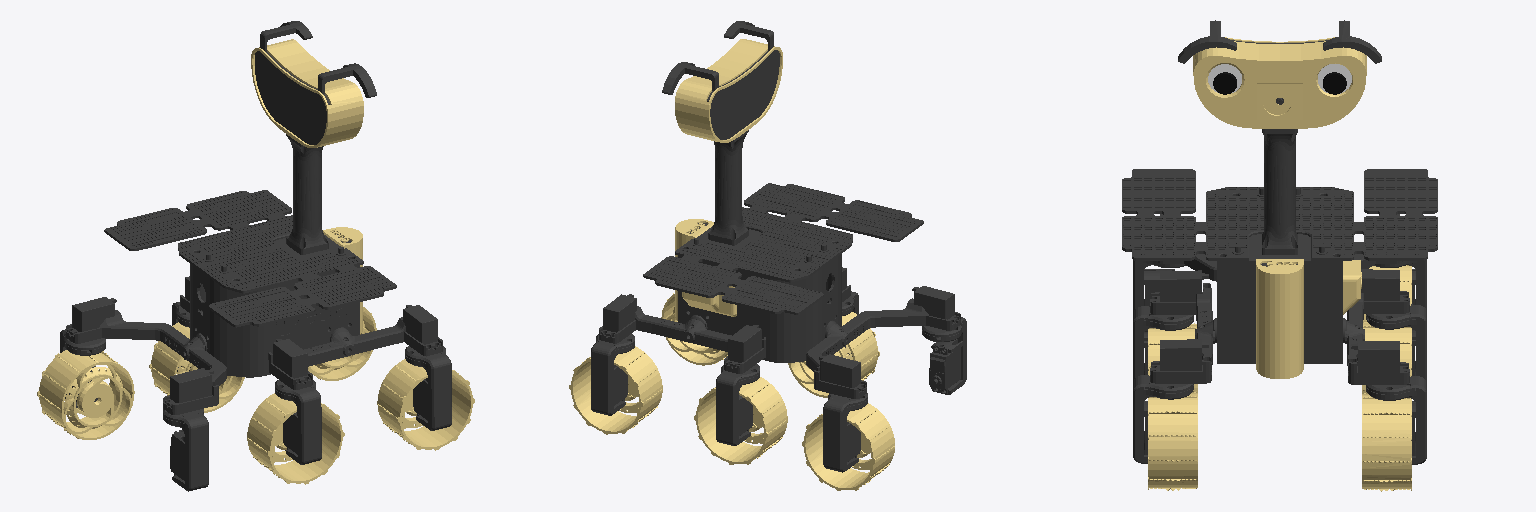
--- Render facts (derived) ---
Views: 3 orthographic renders of the robot side by side, from view 1: azimuth 30°, elevation 25°; view 2: azimuth 150°, elevation 25°; view 3: azimuth 270°, elevation 25°.
Model exomy_model with 23 links and 22 joints (9 revolute, 8 continuous, 5 fixed), rooted at base_link, posed every joint at zero.
Visible links, largest first — view 1: base_link, DRV_LR_link, MRB_link, hat_link, RFB_link, head_link, DRV_RF_link, DRV_RM_link, STR_RR_link, STR_RF_link, STR_RM_link, DRV_LM_link (+3 smaller); view 2: base_link, MRB_link, hat_link, LFB_link, head_link, DRV_LM_link, DRV_LF_link, DRV_LR_link, STR_LR_link, STR_LF_link, STR_LM_link, STR_RR_link (+3 smaller); view 3: base_link, head_link, bling_link, RFB_link, LFB_link, DRV_RF_link, DRV_LF_link, STR_LF_link, STR_RF_link, hat_link, STR_LM_link, STR_RM_link (+6 smaller).
Link boxes in pixels (<box>): base_link: <box>104,134,396,377</box>; DRV_LR_link: <box>37,350,134,439</box>; MRB_link: <box>66,297,226,414</box>; hat_link: <box>255,21,376,144</box>; RFB_link: <box>268,305,442,389</box>; head_link: <box>251,39,363,147</box>; DRV_RF_link: <box>377,359,474,450</box>; DRV_RM_link: <box>247,393,344,484</box>; STR_RR_link: <box>163,408,208,491</box>; STR_RF_link: <box>405,346,451,430</box>; STR_RM_link: <box>275,380,321,464</box>; DRV_LM_link: <box>149,322,244,412</box>; base_link: <box>643,130,923,362</box>; MRB_link: <box>806,286,960,398</box>; hat_link: <box>662,21,779,139</box>; LFB_link: <box>599,294,765,373</box>; head_link: <box>675,39,782,142</box>; DRV_LM_link: <box>694,377,787,464</box>; DRV_LF_link: <box>569,346,662,434</box>; DRV_LR_link: <box>802,403,894,490</box>; STR_LR_link: <box>823,393,867,472</box>; STR_LF_link: <box>591,334,634,415</box>; STR_LM_link: <box>716,364,759,445</box>; STR_RR_link: <box>922,317,966,394</box>; base_link: <box>1122,129,1437,363</box>; head_link: <box>1193,37,1366,128</box>; bling_link: <box>1256,259,1361,378</box>; RFB_link: <box>1150,270,1214,383</box>; LFB_link: <box>1345,269,1409,384</box>; DRV_RF_link: <box>1148,392,1197,490</box>; DRV_LF_link: <box>1362,393,1411,491</box>; STR_LF_link: <box>1366,376,1426,464</box>; STR_RF_link: <box>1133,375,1193,463</box>; hat_link: <box>1178,20,1381,63</box>; STR_LM_link: <box>1366,304,1426,380</box>; STR_RM_link: <box>1133,306,1193,380</box>.
Bounding box of the posed robot: 0.394 × 0.3 × 0.4422 m (x, y, z).
Meshes: 23 distinct files referenced, 22 mesh visuals loaded (22 binary STL); not drawn: 1 (reference not matched to a file when rendering).

The robot description file, URDF, robot "exomy_model":
<?xml version="1.0" encoding="utf-8"?>
<!-- This URDF was automatically created by SolidWorks to URDF Exporter! Originally created by Stephen Brawner ([email redacted]) 
     Commit Version: 1.5.1-0-g916b5db  Build Version: 1.5.7152.31018
     For more information, please see http://wiki.ros.org/sw_urdf_exporter -->
<robot
  name="exomy_model">
  <link
    name="base_link">
    <inertial>
      <origin
        xyz="0.0034421728666082 -0.000593582314044209 0.0800225110677588"
        rpy="0 0 0" />
      <mass
        value="0.461792601094851" />
      <inertia
        ixx="0.00103940886102509"
        ixy="5.8492004688105E-06"
        ixz="-4.21789087708625E-06"
        iyy="0.00145552483450489"
        iyz="5.85702311398782E-06"
        izz="0.00181351390148521" />
    </inertial>
    <visual>
      <origin
        xyz="0 0 0"
        rpy="0 0 0" />
      <geometry>
        <mesh
          filename="package://exomy_model/meshes/base_link.STL" />
      </geometry>
      <material
        name="color">
        <color
          rgba="0.298039215686275 0.298039215686275 0.298039215686275 1" />
      </material>
    </visual>
    <collision>
      <origin
        xyz="0 0 0"
        rpy="0 0 0" />
      <geometry>
        <mesh
          filename="package://exomy_model/meshes/base_link.STL" />
      </geometry>
    </collision>
  </link>
  <link
    name="MRB_link">
    <inertial>
      <origin
        xyz="-4.75494816076468E-06 0.0051724456441953 -0.053203691874464"
        rpy="0 0 0" />
      <mass
        value="0.108378302988404" />
      <inertia
        ixx="4.87361081203044E-05"
        ixy="1.48702296200904E-09"
        ixz="1.51142077198518E-08"
        iyy="0.000292228221201162"
        iyz="-2.65262441630944E-07"
        izz="0.000257396094560756" />
    </inertial>
    <visual>
      <origin
        xyz="0 0 0"
        rpy="0 0 0" />
      <geometry>
        <mesh
          filename="package://exomy_model/meshes/MRB_link.STL" />
      </geometry>
      <material
        name="color">
        <color
          rgba="0.298039215686275 0.298039215686275 0.298039215686275 1" />
      </material>
    </visual>
    <collision>
      <origin
        xyz="0 0 0"
        rpy="0 0 0" />
      <geometry>
        <mesh
          filename="package://exomy_model/meshes/MRB_link.STL" />
      </geometry>
    </collision>
  </link>
  <joint
    name="MRB_joint"
    type="revolute">
    <origin
      xyz="-0.082 0 0.017"
      rpy="1.5708 0 1.5708" />
    <parent
      link="base_link" />
    <child
      link="MRB_link" />
    <axis
      xyz="0 0 1" />
    <limit
      lower="-0.47"
      upper="0.47"
      effort="10.0"
      velocity="1.0" />
  </joint>
  <link
    name="STR_LR_link">
    <inertial>
      <origin
        xyz="-0.0124570291004618 0.000225486285520493 -0.0337605009553561"
        rpy="0 0 -1.5708" />
      <mass
        value="0.0711741624806848" />
      <inertia
        ixx="3.36879478479992E-05"
        ixy="-8.98028473571259E-09"
        ixz="-4.73850731914457E-06"
        iyy="4.10598360484869E-05"
        iyz="-1.40355471129967E-07"
        izz="1.59152321238695E-05" />
    </inertial>
    <visual>
      <origin
        xyz="0 0 0"
        rpy="0 0 -1.5708" />
      <geometry>
        <mesh
          filename="package://exomy_model/meshes/STR_LR_link.STL" />
      </geometry>
      <material
        name="color">
        <color
          rgba="0.298039215686275 0.298039215686275 0.298039215686275 1" />
      </material>
    </visual>
    <collision>
      <origin
        xyz="0 0 0"
        rpy="0 0 -1.5708" />
      <geometry>
        <mesh
          filename="package://exomy_model/meshes/STR_LR_link.STL" />
      </geometry>
    </collision>
  </link>
  <joint
    name="STR_LR_joint"
    type="revolute">
    <origin
      xyz="0.10378 -0.015418 -0.080775"
      rpy="0 -1.5708 -1.5708" />
    <parent
      link="MRB_link" />
    <child
      link="STR_LR_link" />
    <axis
      xyz="0 0 1" />
    <limit
      lower="-1.57"
      upper="1.57"
      effort="10.0"
      velocity="1.0" />
  </joint>
  <link
    name="DRV_LR_link">
    <inertial>
      <origin
        xyz="-4.38837843702578E-08 0.000210617627838187 -0.00746718154845782"
        rpy="0 0 0" />
      <mass
        value="0.0569725827075565" />
      <inertia
        ixx="5.23057476713962E-05"
        ixy="1.42808035334225E-11"
        ixz="-1.21312260607476E-11"
        iyy="5.21106389985384E-05"
        iyz="6.30117671071211E-08"
        izz="8.04986816304342E-05" />
    </inertial>
    <visual>
      <origin
        xyz="0 0 0"
        rpy="0 0 0" />
      <geometry>
        <mesh
          filename="package://exomy_model/meshes/DRV_LR_link.STL" />
      </geometry>
      <material
        name="color">
        <color
          rgba="0.968627450980392 0.87843137254902 0.6 1" />
      </material>
    </visual>
    <collision>
      <origin
        xyz="0 0 0"
        rpy="0 0 0" />
      <geometry>
        <mesh
          filename="package://exomy_model/meshes/DRV_LR_link.STL" />
      </geometry>
    </collision>
  </link>
  <joint
    name="DRV_LR_joint"
    type="continuous">
    <origin
      xyz="0 -0.0023862 -0.057244"
      rpy="-1.5708 0 0" />
    <parent
      link="STR_LR_link" />
    <child
      link="DRV_LR_link" />
    <axis
      xyz="0 0 1" />
  </joint>
  <link
    name="STR_RR_link">
    <inertial>
      <origin
        xyz="-0.0124555119207003 -0.000225533347029169 -0.0337608863888986"
        rpy="0 0 1.5708" />
      <mass
        value="0.071173105016733" />
      <inertia
        ixx="3.36872651590183E-05"
        ixy="8.0792108133717E-09"
        ixz="-4.74135535852484E-06"
        iyy="4.10633342810781E-05"
        iyz="1.40511475060441E-07"
        izz="1.59192004795905E-05" />
    </inertial>
    <visual>
      <origin
        xyz="0 0 0"
        rpy="0 0 1.5708" />
      <geometry>
        <mesh
          filename="package://exomy_model/meshes/STR_RR_link.STL" />
      </geometry>
      <material
        name="color">
        <color
          rgba="0.298039215686275 0.298039215686275 0.298039215686275 1" />
      </material>
    </visual>
    <collision>
      <origin
        xyz="0 0 0"
        rpy="0 0 1.5708" />
      <geometry>
        <mesh
          filename="package://exomy_model/meshes/STR_RR_link.STL" />
      </geometry>
    </collision>
  </link>
  <joint
    name="STR_RR_joint"
    type="revolute">
    <origin
      xyz="-0.103779999964964 -0.0154182000000004 -0.0807754997113281"
      rpy="0 -1.5708 -1.5708" />
    <parent
      link="MRB_link" />
    <child
      link="STR_RR_link" />
    <axis
      xyz="0 0 1" />
    <limit
      lower="-1.57"
      upper="1.57"
      effort="10.0"
      velocity="1.0" />
  </joint>
  <link
    name="DRV_RR_link">
    <inertial>
      <origin
        xyz="-4.38837843980133E-08 0.000210617627838181 0.00746718154845791"
        rpy="0 0 0" />
      <mass
        value="0.0569725827075564" />
      <inertia
        ixx="5.23057476713962E-05"
        ixy="1.4280803567856E-11"
        ixz="-1.21312261132926E-11"
        iyy="5.21106389985384E-05"
        iyz="6.30117671071784E-08"
        izz="8.04986816304342E-05" />
    </inertial>
    <visual>
      <origin
        xyz="0 0 0"
        rpy="0 0 0" />
      <geometry>
        <mesh
          filename="package://exomy_model/meshes/DRV_RR_link.STL" />
      </geometry>
      <material
        name="color">
        <color
          rgba="0.968627450980392 0.87843137254902 0.6 1" />
      </material>
    </visual>
    <collision>
      <origin
        xyz="0 0 0"
        rpy="0 0 0" />
      <geometry>
        <mesh
          filename="package://exomy_model/meshes/DRV_RR_link.STL" />
      </geometry>
    </collision>
  </link>
  <joint
    name="DRV_RR_joint"
    type="continuous">
    <origin
      xyz="0 0.00238620000000078 -0.05724350028868"
      rpy="-1.57079634175582 0 0" />
    <parent
      link="STR_RR_link" />
    <child
      link="DRV_RR_link" />
    <axis
      xyz="0 0 1" />
  </joint>
  <link
    name="RFB_link">
    <inertial>
      <origin
        xyz="-8.38457132264075E-05 -0.00628204153226714 -0.0263258310482545"
        rpy="0 0 0" />
      <mass
        value="0.0924731809037187" />
      <inertia
        ixx="2.29568915420578E-05"
        ixy="1.58188457098278E-06"
        ixz="8.63143998755461E-09"
        iyy="0.000122728602083747"
        iyz="4.1818097875421E-07"
        izz="0.000113483415744406" />
    </inertial>
    <visual>
      <origin
        xyz="0 0 0"
        rpy="0 0 0" />
      <geometry>
        <mesh
          filename="package://exomy_model/meshes/RFB_link.STL" />
      </geometry>
      <material
        name="color">
        <color
          rgba="0.298039215686275 0.298039215686275 0.298039215686275 1" />
      </material>
    </visual>
    <collision>
      <origin
        xyz="0 0 0"
        rpy="0 0 0" />
      <geometry>
        <mesh
          filename="package://exomy_model/meshes/RFB_link.STL" />
      </geometry>
    </collision>
  </link>
  <joint
    name="RFB_joint"
    type="revolute">
    <origin
      xyz="0.055 -0.0619999999999967 0.017"
      rpy="-1.5707963267949 0 0" />
    <parent
      link="base_link" />
    <child
      link="RFB_link" />
    <axis
      xyz="0 0 1" />
    <limit
      lower="-0.47"
      upper="0.47"
      effort="10.0"
      velocity="1.0" />f
  </joint>
  <link
    name="STR_RF_link">
    <inertial>
      <origin
        xyz="0.000225535399357379 -0.0124555107840924 -0.0337608839210725"
        rpy="0 0 0" />
      <mass
        value="0.0711731123513564" />
      <inertia
        ixx="4.10633381534302E-05"
        ixy="-8.08388203962856E-09"
        ixz="-1.40514255173095E-07"
        iyy="3.36872678189233E-05"
        iyz="-4.74135711620157E-06"
        izz="1.5919203009283E-05" />
    </inertial>
    <visual>
      <origin
        xyz="0 0 0"
        rpy="0 0 0" />
      <geometry>
        <mesh
          filename="package://exomy_model/meshes/STR_RF_link.STL" />
      </geometry>
      <material
        name="color">
        <color
          rgba="0.298039215686275 0.298039215686275 0.298039215686275 1" />
      </material>
    </visual>
    <collision>
      <origin
        xyz="0 0 0"
        rpy="0 0 0" />
      <geometry>
        <mesh
          filename="package://exomy_model/meshes/STR_RF_link.STL" />
      </geometry>
    </collision>
  </link>
  <joint
    name="STR_RF_joint"
    type="revolute">
    <origin
      xyz="0.0802349319288146 0.0141448430183208 -0.0417754997113241"
      rpy="1.5707963267949 0 -0.015893290716378" />
    <parent
      link="RFB_link" />
    <child
      link="STR_RF_link" />
    <axis
      xyz="0 0 1" />
    <limit
      lower="-1.57"
      upper="1.57"
      effort="10.0"
      velocity="1.0" />
  </joint>
  <link
    name="DRV_RF_link">
    <inertial>
      <origin
        xyz="3.39114450861877E-06 0.000210590330311941 0.00746718154845911"
        rpy="0 0 0" />
      <mass
        value="0.0569725827075563" />
      <inertia
        ixx="5.23056979378795E-05"
        ixy="-3.1146702870726E-09"
        ixz="-1.01355186737367E-09"
        iyy="5.21106887320552E-05"
        iyz="-6.30036161957909E-08"
        izz="8.04986816304343E-05" />
    </inertial>
    <visual>
      <origin
        xyz="0 0 0"
        rpy="0 0 0" />
      <geometry>
        <mesh
          filename="package://exomy_model/meshes/DRV_RF_link.STL" />
      </geometry>
      <material
        name="color">
        <color
          rgba="0.968627450980392 0.87843137254902 0.6 1" />
      </material>
    </visual>
    <collision>
      <origin
        xyz="0 0 0"
        rpy="0 0 0" />
      <geometry>
        <mesh
          filename="package://exomy_model/meshes/DRV_RF_link.STL" />
      </geometry>
    </collision>
  </link>
  <joint
    name="DRV_RF_joint"
    type="continuous">
    <origin
      xyz="0 0.00238620000000062 -0.05724350028868"
      rpy="-1.5707963267949 0.015893290716378 0" />
    <parent
      link="STR_RF_link" />
    <child
      link="DRV_RF_link" />
    <axis
      xyz="0 0 1" />
  </joint>
  <link
    name="STR_RM_link">
    <inertial>
      <origin
        xyz="-0.000225484526532056 -0.0124570290148926 -0.0337605008492651"
        rpy="0 0 0" />
      <mass
        value="0.0711741620458433" />
      <inertia
        ixx="4.1059835210984E-05"
        ixy="8.97622797173443E-09"
        ixz="1.4035214941618E-07"
        iyy="3.36879468051002E-05"
        iyz="-4.73850702378181E-06"
        izz="1.59152316780868E-05" />
    </inertial>
    <visual>
      <origin
        xyz="0 0 0"
        rpy="0 0 0" />
      <geometry>
        <mesh
          filename="package://exomy_model/meshes/STR_RM_link.STL" />
      </geometry>
      <material
        name="color">
        <color
          rgba="0.298039215686275 0.298039215686275 0.298039215686275 1" />
      </material>
    </visual>
    <collision>
      <origin
        xyz="0 0 0"
        rpy="0 0 0" />
      <geometry>
        <mesh
          filename="package://exomy_model/meshes/STR_RM_link.STL" />
      </geometry>
    </collision>
  </link>
  <joint
    name="STR_RM_joint"
    type="revolute">
    <origin
      xyz="-0.0797448607263364 0.0166876624779333 -0.0417754996999998"
      rpy="1.5707963267949 0 -0.0158932907163782" />
    <parent
      link="RFB_link" />
    <child
      link="STR_RM_link" />
    <axis
      xyz="0 0 1" />
    <limit
      lower="-1.57"
      upper="1.57"
      effort="10.0"
      velocity="1.0" />
  </joint>
  <link
    name="DRV_RM_link">
    <inertial>
      <origin
        xyz="3.39103454103859E-06 0.000210590220343906 0.00746718155160908"
        rpy="0 0 0" />
      <mass
        value="0.0569725827075566" />
      <inertia
        ixx="5.23056979379094E-05"
        ixy="-3.1146693443612E-09"
        ixz="-1.01396710611305E-09"
        iyy="5.21106887339111E-05"
        iyz="-6.30040343072411E-08"
        izz="8.04986816285489E-05" />
    </inertial>
    <visual>
      <origin
        xyz="0 0 0"
        rpy="0 0 0" />
      <geometry>
        <mesh
          filename="package://exomy_model/meshes/DRV_RM_link.STL" />
      </geometry>
      <material
        name="color">
        <color
          rgba="0.968627450980392 0.87843137254902 0.6 1" />
      </material>
    </visual>
    <collision>
      <origin
        xyz="0 0 0"
        rpy="0 0 0" />
      <geometry>
        <mesh
          filename="package://exomy_model/meshes/DRV_RM_link.STL" />
      </geometry>
    </collision>
  </link>
  <joint
    name="DRV_RM_joint"
    type="continuous">
    <origin
      xyz="0 0.00238620000000078 -0.05724350028868"
      rpy="-1.57079634175582 0.0158932907163779 0" />
    <parent
      link="STR_RM_link" />
    <child
      link="DRV_RM_link" />
    <axis
      xyz="0 0 1" />
  </joint>
  <link
    name="LFB_link">
    <inertial>
      <origin
        xyz="-1.60029202162099E-05 -0.00628258071143433 0.0263258310443698"
        rpy="0 0 0" />
      <mass
        value="0.0924731806442644" />
      <inertia
        ixx="2.29318170765755E-05"
        ixy="4.3481647864576E-09"
        ixz="1.98434748239914E-09"
        iyy="0.000122753677991828"
        iyz="-4.18265325949263E-07"
        izz="0.000113483417193971" />
    </inertial>
    <visual>
      <origin
        xyz="0 0 0"
        rpy="0 0 0" />
      <geometry>
        <mesh
          filename="package://exomy_model/meshes/LFB_link.STL" />
      </geometry>
      <material
        name="color">
        <color
          rgba="0.298039215686275 0.298039215686275 0.298039215686275 1" />
      </material>
    </visual>
    <collision>
      <origin
        xyz="0 0 0"
        rpy="0 0 0" />
      <geometry>
        <mesh
          filename="package://exomy_model/meshes/LFB_link.STL" />
      </geometry>
    </collision>
  </link>
  <joint
    name="LFB_joint"
    type="revolute">
    <origin
      xyz="0.055 0.0619999999999967 0.017"
      rpy="-1.5707963267949 0 0" />
    <parent
      link="base_link" />
    <child
      link="LFB_link" />
    <axis
      xyz="0 0 1" />
    <limit
      lower="-0.47"
      upper="0.47"
      effort="10.0"
      velocity="1.0" />
  </joint>
  <link
    name="STR_LF_link">
    <inertial>
      <origin
        xyz="0.000225486285520132 0.0124570291004614 -0.0337605009553564"
        rpy="0 0 0" />
      <mass
        value="0.0711741624806841" />
      <inertia
        ixx="4.10598360484866E-05"
        ixy="8.98028473592791E-09"
        ixz="-1.40355471130126E-07"
        iyy="3.3687947847999E-05"
        iyz="4.73850731914466E-06"
        izz="1.59152321238694E-05" />
    </inertial>
    <visual>
      <origin
        xyz="0 0 0"
        rpy="0 0 0" />
      <geometry>
        <mesh
          filename="package://exomy_model/meshes/STR_LF_link.STL" />
      </geometry>
      <material
        name="color">
        <color
          rgba="0.298039215686275 0.298039215686275 0.298039215686275 1" />
      </material>
    </visual>
    <collision>
      <origin
        xyz="0 0 0"
        rpy="0 0 0" />
      <geometry>
        <mesh
          filename="package://exomy_model/meshes/STR_LF_link.STL" />
      </geometry>
    </collision>
  </link>
  <joint
    name="STR_LF_joint"
    type="revolute">
    <origin
      xyz="0.0800000000000001 0.0154182000000003 0.041775499700002"
      rpy="1.5707963267949 0 0" />
    <parent
      link="LFB_link" />
    <child
      link="STR_LF_link" />
    <axis
      xyz="0 0 1" />
    <limit
      lower="-1.57"
      upper="1.57"
      effort="10.0"
      velocity="1.0" />
  </joint>
  <link
    name="DRV_LF_link">
    <inertial>
      <origin
        xyz="-4.38837841065798E-08 0.00021061762783816 -0.00746718154845798"
        rpy="0 0 0" />
      <mass
        value="0.0569725827075566" />
      <inertia
        ixx="5.23057476713962E-05"
        ixy="1.42808035655077E-11"
        ixz="-1.21312268807397E-11"
        iyy="5.21106389985386E-05"
        iyz="6.30117671071828E-08"
        izz="8.04986816304343E-05" />
    </inertial>
    <visual>
      <origin
        xyz="0 0 0"
        rpy="0 0 0" />
      <geometry>
        <mesh
          filename="package://exomy_model/meshes/DRV_LF_link.STL" />
      </geometry>
      <material
        name="color">
        <color
          rgba="0.968627450980392 0.87843137254902 0.6 1" />
      </material>
    </visual>
    <collision>
      <origin
        xyz="0 0 0"
        rpy="0 0 0" />
      <geometry>
        <mesh
          filename="package://exomy_model/meshes/DRV_LF_link.STL" />
      </geometry>
    </collision>
  </link>
  <joint
    name="DRV_LF_joint"
    type="continuous">
    <origin
      xyz="0 -0.00238620000000062 -0.05724350028868"
      rpy="-1.5707963267949 0 0" />
    <parent
      link="STR_LF_link" />
    <child
      link="DRV_LF_link" />
    <axis
      xyz="0 0 1" />
  </joint>
  <link
    name="STR_LM_link">
    <inertial>
      <origin
        xyz="-0.000225533347029273 0.0124555119206989 -0.0337608863888989"
        rpy="0 0 0" />
      <mass
        value="0.0711731050167323" />
      <inertia
        ixx="4.10633342810777E-05"
        ixy="-8.07921081316806E-09"
        ixz="1.40511475060324E-07"
        iyy="3.3687265159018E-05"
        iyz="4.74135535852496E-06"
        izz="1.59192004795905E-05" />
    </inertial>
    <visual>
      <origin
        xyz="0 0 0"
        rpy="0 0 0" />
      <geometry>
        <mesh
          filename="package://exomy_model/meshes/STR_LM_link.STL" />
      </geometry>
      <material
        name="color">
        <color
          rgba="0.298039215686275 0.298039215686275 0.298039215686275 1" />
      </material>
    </visual>
    <collision>
      <origin
        xyz="0 0 0"
        rpy="0 0 0" />
      <geometry>
        <mesh
          filename="package://exomy_model/meshes/STR_LM_link.STL" />
      </geometry>
    </collision>
  </link>
  <joint
    name="STR_LM_joint"
    type="revolute">
    <origin
      xyz="-0.0799999999649664 0.0154182000000003 0.0417754997113218"
      rpy="1.5707963267949 0 0" />
    <parent
      link="LFB_link" />
    <child
      link="STR_LM_link" />
    <axis
      xyz="0 0 1" />
    <limit
      lower="-1.57"
      upper="1.57"
      effort="10.0"
      velocity="1.0" />
  </joint>
  <link
    name="DRV_LM_link">
    <inertial>
      <origin
        xyz="-4.37738164535406E-08 0.000210617737805917 -0.00746718154535671"
        rpy="0 0 0" />
      <mass
        value="0.0569725827075566" />
      <inertia
        ixx="5.23057476713966E-05"
        ixy="1.42798757667414E-11"
        ixz="-1.25464185675061E-11"
        iyy="5.21106389966827E-05"
        iyz="6.30113490421523E-08"
        izz="8.04986816322899E-05" />
    </inertial>
    <visual>
      <origin
        xyz="0 0 0"
        rpy="0 0 0" />
      <geometry>
        <mesh
          filename="package://exomy_model/meshes/DRV_LM_link.STL" />
      </geometry>
      <material
        name="color">
        <color
          rgba="0.968627450980392 0.87843137254902 0.6 1" />
      </material>
    </visual>
    <collision>
      <origin
        xyz="0 0 0"
        rpy="0 0 0" />
      <geometry>
        <mesh
          filename="package://exomy_model/meshes/DRV_LM_link.STL" />
      </geometry>
    </collision>
  </link>
  <joint
    name="DRV_LM_joint"
    type="continuous">
    <origin
      xyz="0 -0.00238620000000191 -0.05724350028868"
      rpy="-1.5707963415217 0 0" />
    <parent
      link="STR_LM_link" />
    <child
      link="DRV_LM_link" />
    <axis
      xyz="0 0 1" />
  </joint>
  <link
    name="head_link">
    <inertial>
      <origin
        xyz="4.0509917286166E-05 0.0108850586865648 0.0292442059611973"
        rpy="0 0 0" />
      <mass
        value="0.078891512690109" />
      <inertia
        ixx="6.70251107353366E-05"
        ixy="2.39510957059524E-09"
        ixz="-1.02874991606426E-08"
        iyy="0.000206696832834382"
        iyz="-5.1503022725599E-07"
        izz="0.000246607733219875" />
    </inertial>
    <visual>
      <origin
        xyz="0 0 0"
        rpy="0 0 0" />
      <geometry>
        <mesh
          filename="package://exomy_model/meshes/head_link.STL" />
      </geometry>
      <material
        name="color">
        <color
          rgba="0.968627450980392 0.87843137254902 0.6 1" />
      </material>
    </visual>
    <collision>
      <origin
        xyz="0 0 0"
        rpy="0 0 0" />
      <geometry>
        <mesh
          filename="package://exomy_model/meshes/head_link.STL" />
      </geometry>
    </collision>
  </link>
  <joint
    name="head_joint"
    type="fixed">
    <origin
      xyz="0.0279999999999999 0 0.270280720578923"
      rpy="1.5707963267949 0 1.5707963267949" />
    <parent
      link="base_link" />
    <child
      link="head_link" />
    <axis
      xyz="0 0 0" />
  </joint>
  <link
    name="eyewhite_link">
    <inertial>
      <origin
        xyz="0.0519999879024582 -3.12462373082689E-05 0.000860409568077425"
        rpy="0 0 0" />
      <mass
        value="0.00447909534854348" />
      <inertia
        ixx="4.71996017145732E-07"
        ixy="3.02527120032438E-13"
        ixz="-2.59196121286635E-14"
        iyy="4.71644858227357E-07"
        iyz="1.94300295539208E-11"
        izz="9.38560485421757E-07" />
    </inertial>
    <visual>
      <origin
        xyz="0 0 0"
        rpy="0 0 0" />
      <geometry>
        <mesh
          filename="package://exomy_model/meshes/eyewhite_link.STL" />
      </geometry>
      <material
        name="color">
        <color
          rgba="1 1 1 1" />
      </material>
    </visual>
    <collision>
      <origin
        xyz="0 0 0"
        rpy="0 0 0" />
      <geometry>
        <mesh
          filename="package://exomy_model/meshes/eyewhite_link.STL" />
      </geometry>
    </collision>
  </link>
  <joint
    name="eyewhite_joint"
    type="fixed">
    <origin
      xyz="-0.0520000000000005 0.0230000000000001 0.039"
      rpy="0 0 0" />
    <parent
      link="head_link" />
    <child
      link="eyewhite_link" />
    <axis
      xyz="0 0 0" />
  </joint>
  <link
    name="pupil_left_link">
    <inertial>
      <origin
        xyz="0 -0.0045 0.000632252497896557"
        rpy="0 0 0" />
      <mass
        value="0.000901852963073431" />
      <inertia
        ixx="2.89326801666712E-08"
        ixy="-2.68833699079734E-24"
        ixz="4.65289094561078E-25"
        iyy="2.7290995437859E-08"
        iyz="1.23645011521457E-09"
        izz="5.34701372980572E-08" />
    </inertial>
    <visual>
      <origin
        xyz="0 -0.0045 0"
        rpy="0 0 0" />
      <geometry>
        <mesh
          filename="package://exomy_model/meshes/pupil_left_link.STL" />
      </geometry>
      <material
        name="color">
        <color
          rgba="0.101960784313725 0.101960784313725 0.101960784313725 1" />
      </material>
    </visual>
    <collision>
      <origin
        xyz="0 -0.0045 0"
        rpy="0 0 0" />
      <geometry>
        <mesh
          filename="package://exomy_model/meshes/pupil_left_link.STL" />
      </geometry>
    </collision>
  </link>
  <joint
    name="pupil_left_joint"
    type="continuous">
    <origin
      xyz="0.104 0 0.002"
      rpy="0 0 0" />
    <parent
      link="eyewhite_link" />
    <child
      link="pupil_left_link" />
    <axis
      xyz="0 0 1" />
  </joint>
  <link
    name="pupil_right_link">
    <inertial>
      <origin
        xyz="0 -0.0045 0.000632252497896571"
        rpy="0 0 0" />
      <mass
        value="0.000901852963073431" />
      <inertia
        ixx="2.89326801666712E-08"
        ixy="-6.20385459414771E-25"
        ixz="-2.32644547280539E-24"
        iyy="2.7290995437859E-08"
        iyz="1.23645011521456E-09"
        izz="5.34701372980573E-08" />
    </inertial>
    <visual>
      <origin
        xyz="0 -0.0045 0"
        rpy="0 0 0" />
      <geometry>
        <mesh
          filename="package://exomy_model/meshes/pupil_right_link.STL" />
      </geometry>
      <material
        name="color">
        <color
          rgba="0.101960784313725 0.101960784313725 0.101960784313725 1" />
      </material>
    </visual>
    <collision>
      <origin
        xyz="0 -0.0045 0"
        rpy="0 0 0" />
      <geometry>
        <mesh
          filename="package://exomy_model/meshes/pupil_right_link.STL" />
      </geometry>
    </collision>
  </link>
  <joint
    name="pupil_right_joint"
    type="continuous">
    <origin
      xyz="0 0 0.002"
      rpy="0 0 0" />
    <parent
      link="eyewhite_link" />
    <child
      link="pupil_right_link" />
    <axis
      xyz="0 0 1" />
    <mimic
      joint="pupil_left_joint"/>
  </joint>
  <link
    name="cam_link">
    <inertial>
      <origin
        xyz="-0.00249086473821708 0.000136649009533494 0.000569820673845034"
        rpy="0 0 0" />
      <mass
        value="0.00115745344893818" />
      <inertia
        ixx="3.97290092554314E-08"
        ixy="1.65336506579141E-13"
        ixz="-3.60412180475581E-11"
        iyy="2.88827920072803E-08"
        iyz="-2.52492241388442E-13"
        izz="6.76913771029684E-08" />
    </inertial>
    <visual>
      <origin
        xyz="0 0 0"
        rpy="0 0 0" />
      <geometry>
        <mesh
          filename="package://exomy_model/meshes/cam_link.STL" />
      </geometry>
      <material
        name="color">
        <color
          rgba="0.298039215686275 0.298039215686275 0.298039215686275 1" />
      </material>
    </visual>
    <collision>
      <origin
        xyz="0 0 0"
        rpy="0 0 0" />
      <geometry>
        <mesh
          filename="package://exomy_model/meshes/cam_link.STL" />
      </geometry>
    </collision>
  </link>
  <joint
    name="cam_joint"
    type="fixed">
    <origin
      xyz="9.42151964158384E-05 0.00215468910946459 0.035"
      rpy="0 0 1.5707963267949" />
    <parent
      link="head_link" />
    <child
      link="cam_link" />
    <axis
      xyz="0 0 0" />
  </joint>
  <link
    name="hat_link">
    <inertial>
      <origin
        xyz="3.19558159002607E-08 0.0294025205083059 0.0152014899719377"
        rpy="0 0 0" />
      <mass
        value="0.0446228233973554" />
      <inertia
        ixx="4.85170602784381E-05"
        ixy="-7.36561851682008E-11"
        ixz="-4.45696698592091E-11"
        iyy="0.000137144944737089"
        iyz="-1.51319761954045E-05"
        izz="0.000157930625148711" />
    </inertial>
    <visual>
      <origin
        xyz="0 0 0"
        rpy="0 0 0" />
      <geometry>
        <mesh
          filename="package://exomy_model/meshes/hat_link.STL" />
      </geometry>
      <material
        name="color">
        <color
          rgba="0.298039215686275 0.298039215686275 0.298039215686275 1" />
      </material>
    </visual>
    <collision>
      <origin
        xyz="0 0 0"
        rpy="0 0 0" />
      <geometry>
        <mesh
          filename="package://exomy_model/meshes/hat_link.STL" />
      </geometry>
    </collision>
  </link>
  <joint
    name="hat_joint"
    type="fixed">
    <origin
      xyz="0 -0.001 -0.001"
      rpy="0 0 0" />
    <parent
      link="head_link" />
    <child
      link="hat_link" />
    <axis
      xyz="0 0 0" />
  </joint>
  <link
    name="bling_link">
    <inertial>
      <origin
        xyz="-0.00941858500730606 0.0608951077495947 0.00842851931350634"
        rpy="0 0 0" />
      <mass
        value="0.0285646759081801" />
      <inertia
        ixx="3.23857140916041E-05"
        ixy="-1.7111174167912E-07"
        ixz="-1.7776962041517E-07"
        iyy="1.15196931600263E-05"
        iyz="2.33120957978008E-07"
        izz="3.43023707157396E-05" />
    </inertial>
    <visual>
      <origin
        xyz="0 0 0"
        rpy="0 0 0" />
      <geometry>
        <mesh
          filename="package://exomy_model/meshes/bling_link.STL" />
      </geometry>
      <material
        name="color">
        <color
          rgba="0.968627450980392 0.87843137254902 0.6 1" />
      </material>
    </visual>
    <collision>
      <origin
        xyz="0 0 0"
        rpy="0 0 0" />
      <geometry>
        <mesh
          filename="package://exomy_model/meshes/bling_link.STL" />
      </geometry>
    </collision>
  </link>
  <joint
    name="bling_joint"
    type="fixed">
    <origin
      xyz="0.08 0.0225 0"
      rpy="1.5708 0 1.5708" />
    <parent
      link="base_link" />
    <child
      link="bling_link" />
    <axis
      xyz="0 0 0" />
  </joint>
</robot>
